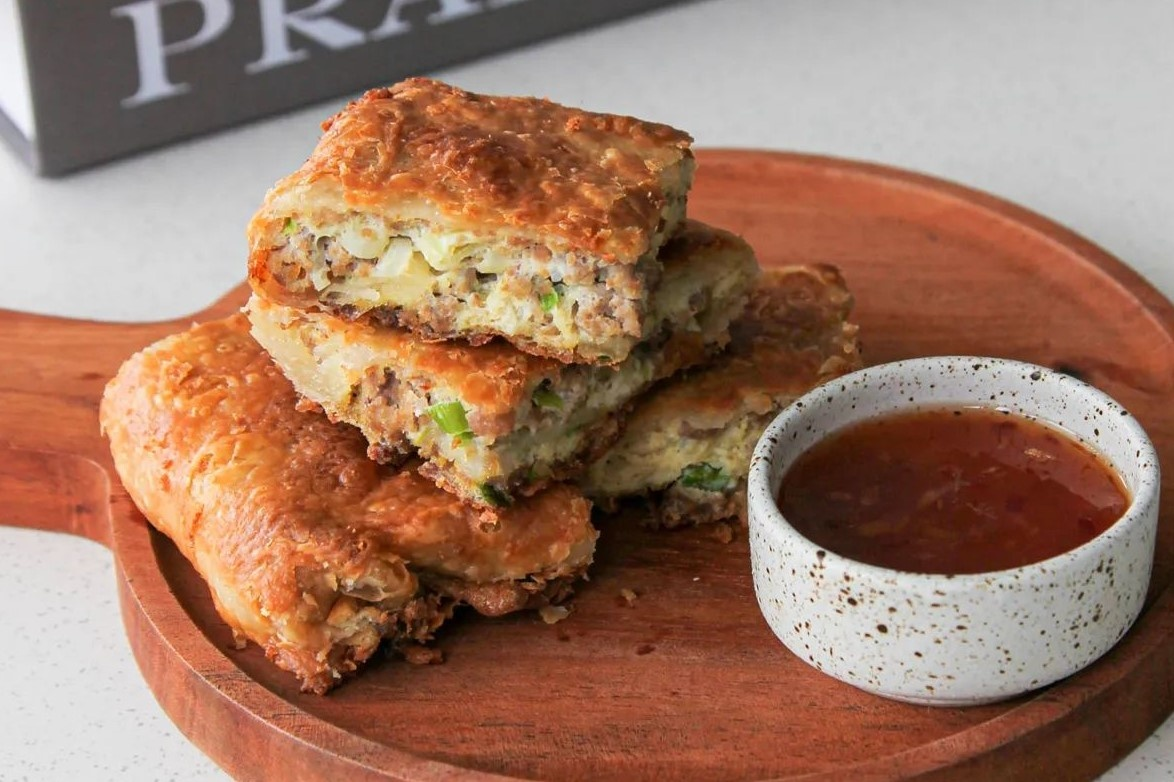martabak: (94, 71, 872, 699)
